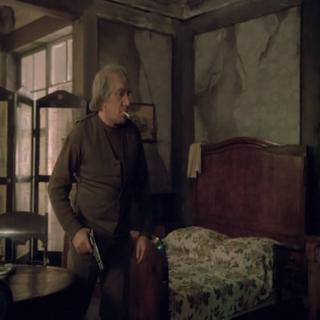gun: (61, 220, 108, 278)
